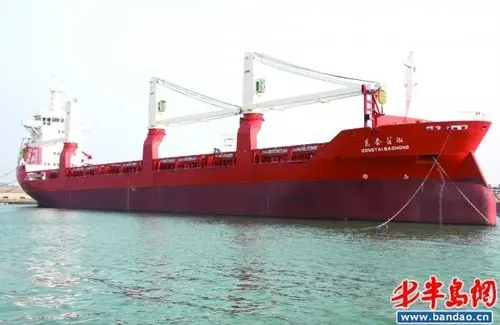Cargoship: (15, 44, 500, 217)
